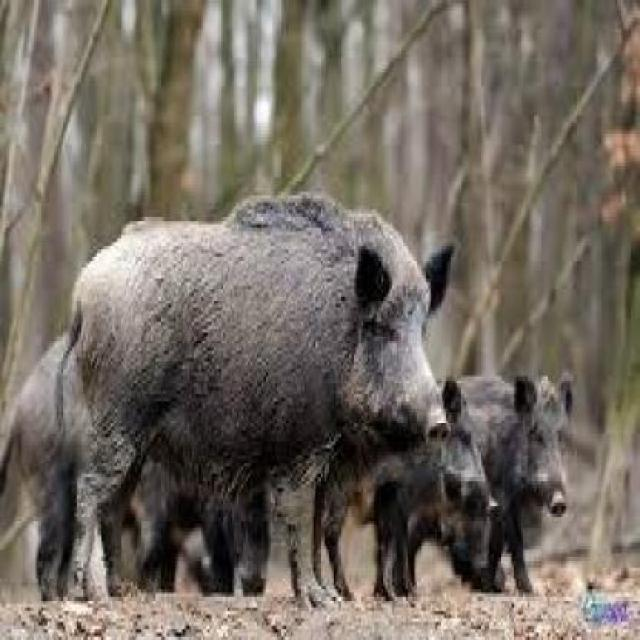wildboar: (62, 205, 460, 606), (0, 314, 251, 608), (309, 372, 500, 596), (402, 363, 576, 605)
